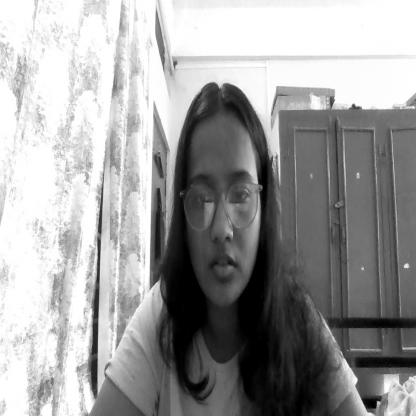Normal: (172, 78, 273, 307)
